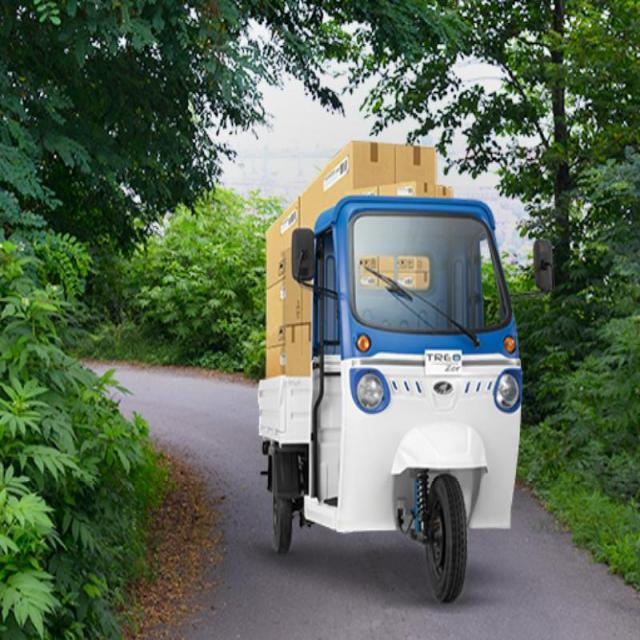autorickshaw: (259, 196, 521, 600)
